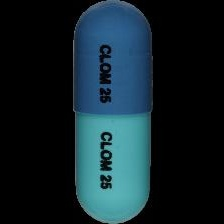51672-4011: (0, 0, 224, 224)
